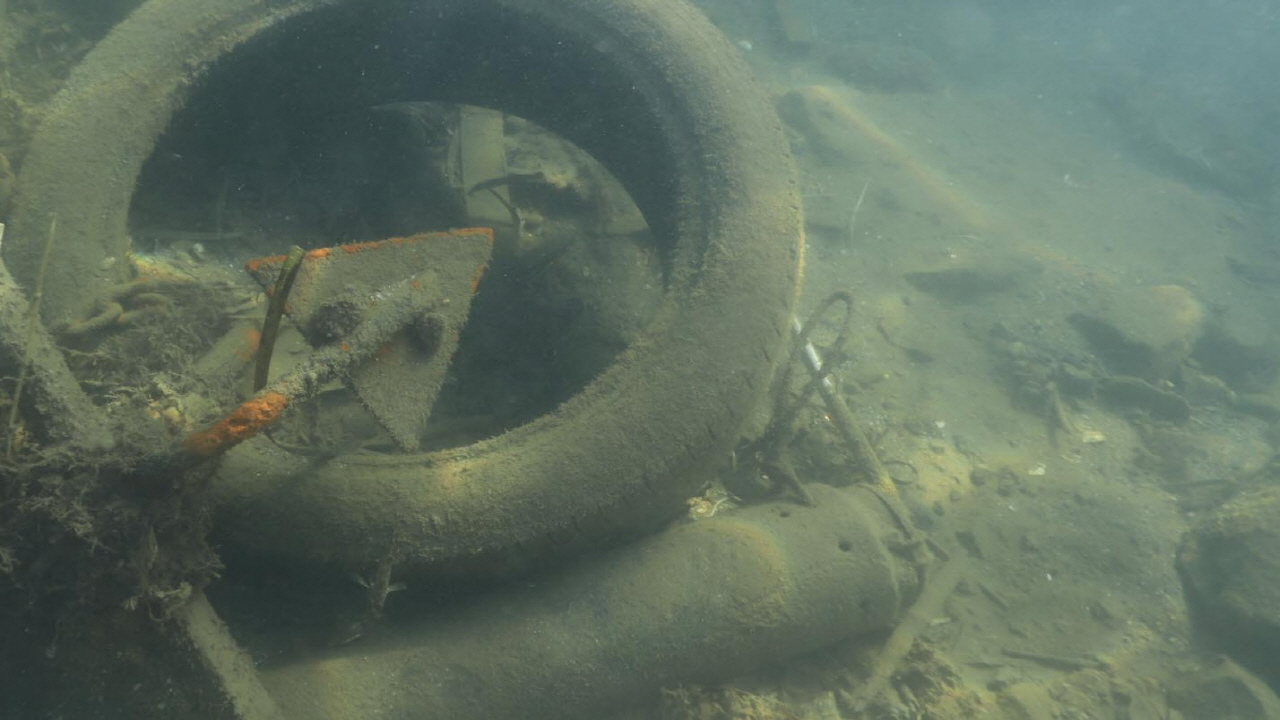eel fish trap: (222, 479, 925, 720)
rope: (736, 288, 854, 505)
tire: (0, 0, 806, 619)
